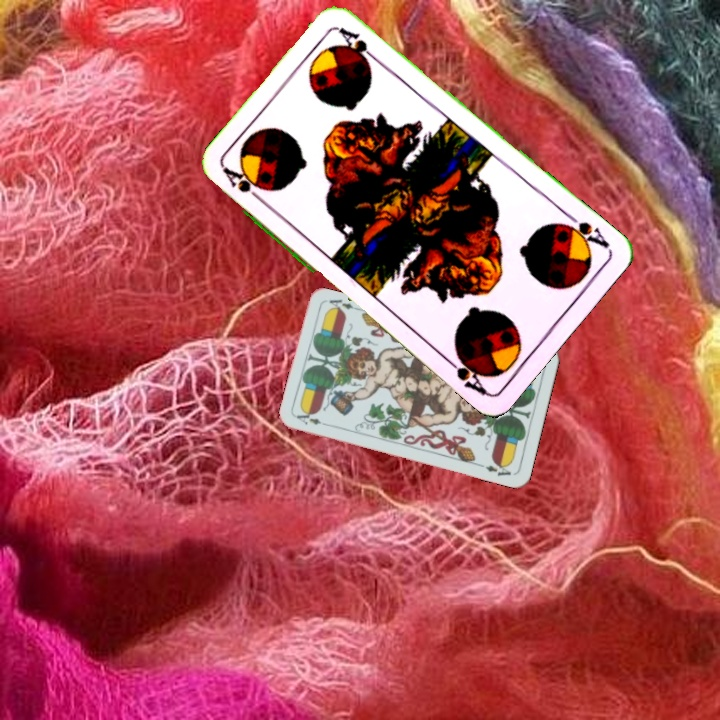EA: (292, 411, 332, 429)
SA: (555, 208, 612, 253), (219, 164, 269, 208)
